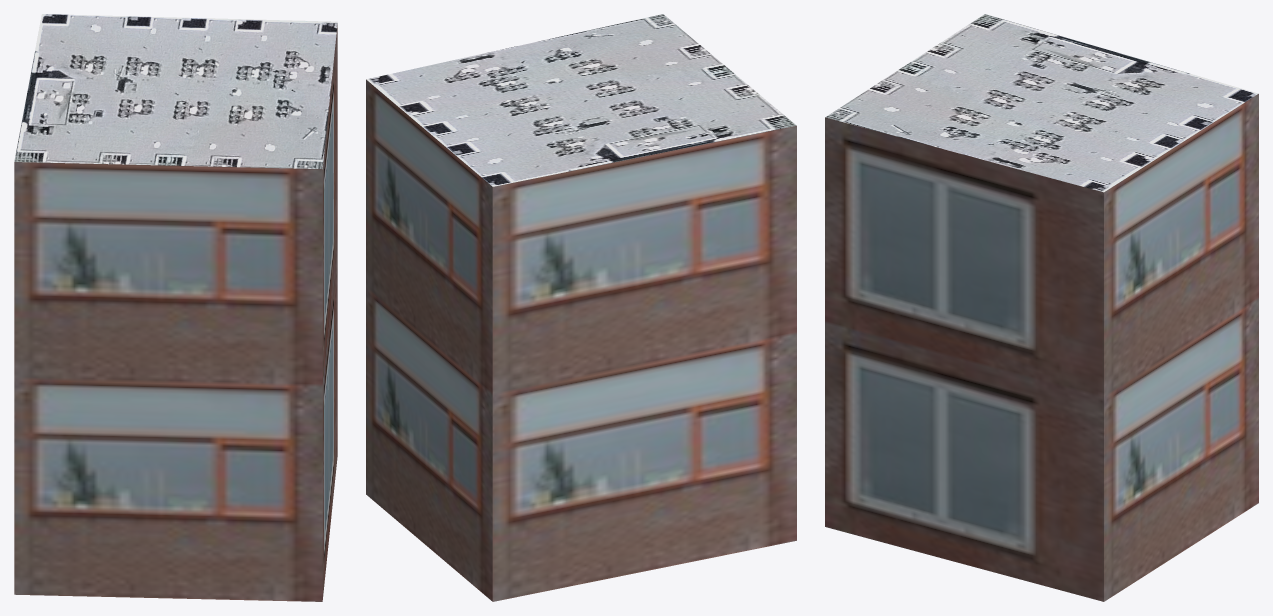
Rendered from ResTex__1834.fbx.
The picture shows the model from 3 angles, left to right: view 1: azimuth 30°, elevation 25°; view 2: azimuth 150°, elevation 25°; view 3: azimuth 270°, elevation 25°; orthographic projection. The views are drawn at different scales.
Parts seen in each view (by area): view 1: CityEngineMaterial_19_m, CityEngineMaterial_m; view 2: CityEngineMaterial_19_m, CityEngineMaterial_m; view 3: CityEngineMaterial_19_m, CityEngineMaterial_m.
Part boxes in pixels (bbox=[...]): CityEngineMaterial_19_m: bbox=[14, 25, 337, 601]; CityEngineMaterial_m: bbox=[14, 14, 337, 169]; CityEngineMaterial_19_m: bbox=[366, 79, 796, 601]; CityEngineMaterial_m: bbox=[366, 14, 796, 186]; CityEngineMaterial_19_m: bbox=[825, 94, 1258, 601]; CityEngineMaterial_m: bbox=[825, 14, 1258, 192].
Size of the model in its own units: 5.61 by 6 by 5.76.
2 materials, 2 textured.
